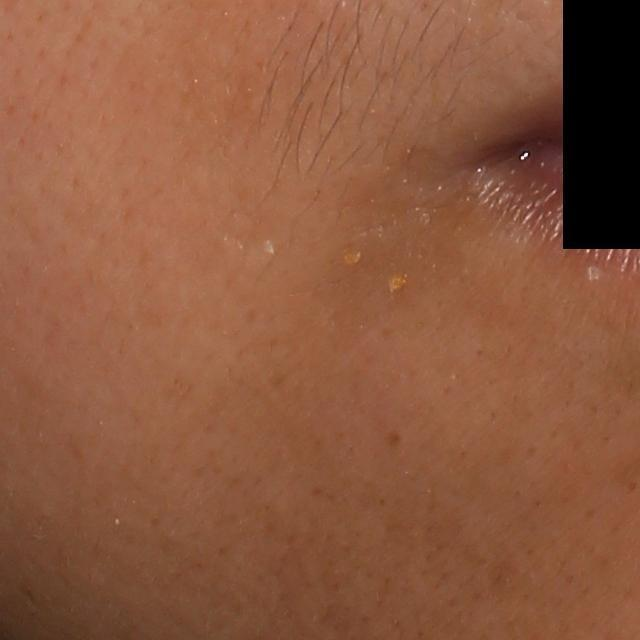other: (380, 271, 418, 296)
